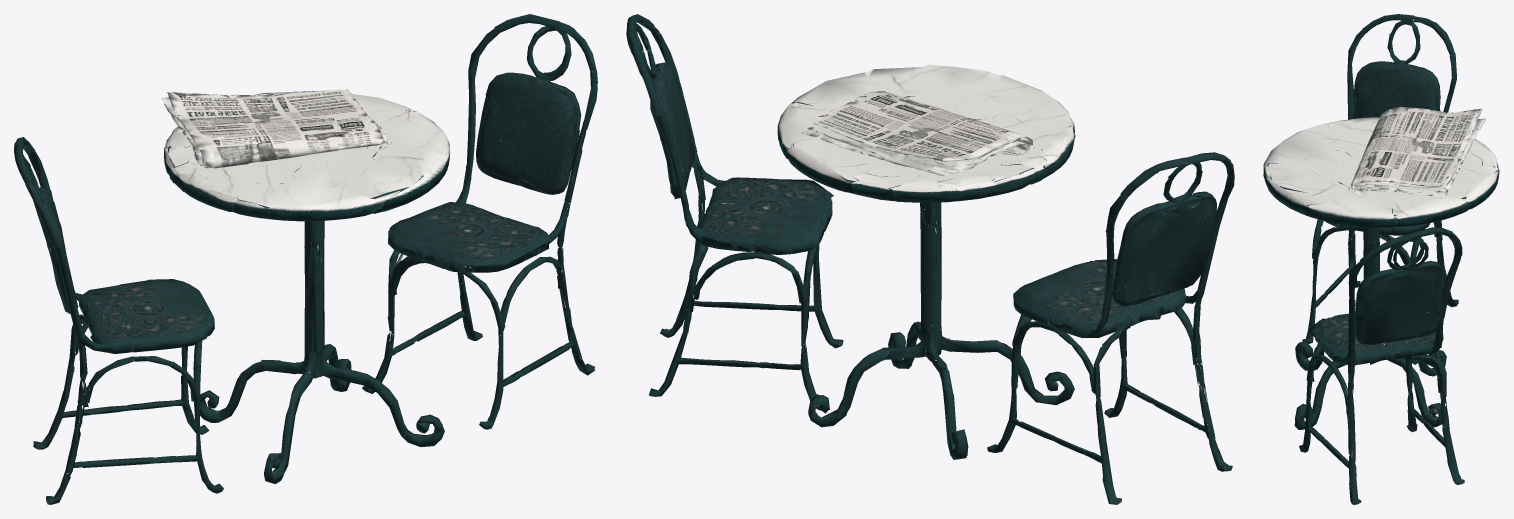
Rendered from tavolino_caffe_lod0.glb.
The picture shows the model from 3 angles, left to right: view 1: azimuth 30°, elevation 25°; view 2: azimuth 150°, elevation 25°; view 3: azimuth 270°, elevation 25°; orthographic projection. The views are drawn at different scales.
Parts seen in each view (by area): view 1: Mesh_0; view 2: Mesh_0; view 3: Mesh_0.
Boxes of the visible parts, x1,y1,x2,y2 form: Mesh_0: (14, 14, 597, 504); Mesh_0: (626, 14, 1234, 504); Mesh_0: (1263, 14, 1499, 504).
Bounding box in the file's own units: 1.6 × 0.9003 × 0.699.
Materials: 1 (1 with a texture image).
